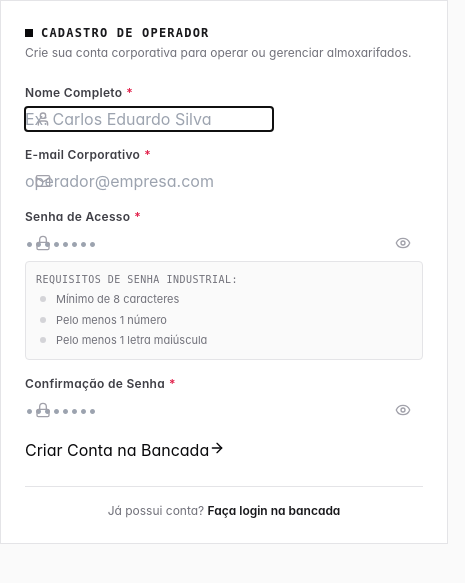
it: RegisterForm (FT-06) › impede o envio se a senha não atender às regras de complexidade
The width and height of the screenshot is (465, 583).
In the field labelled "Nome Completo*": (149,119) [25,107,273,131], type "Carlos Silva"
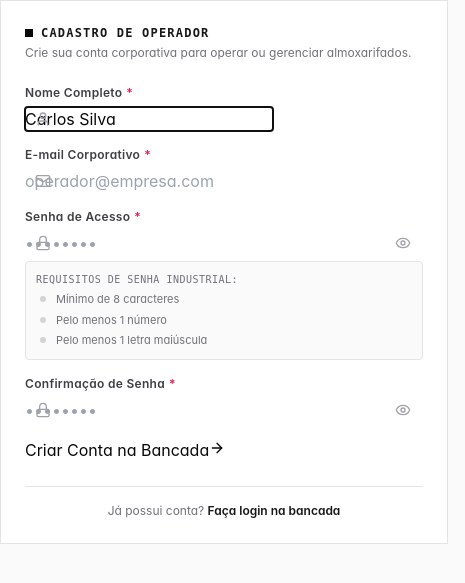
In the field labelled "E-mail Corporativo*": (149,181) [25,169,273,193], type "carlos@empresa.com"
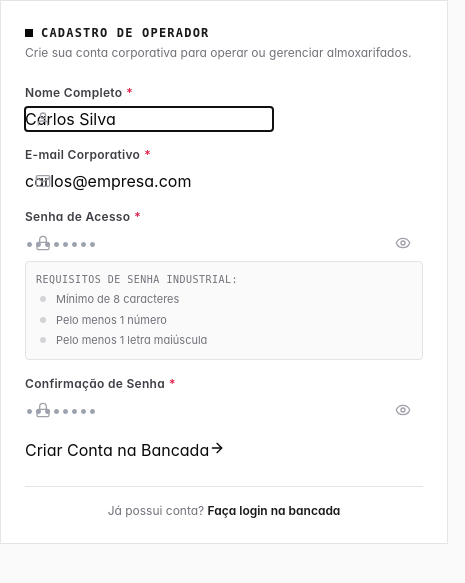
In the password field labelled "Senha de Acesso*": (149,243) [25,231,273,255], type "apenasletrasminusculas"
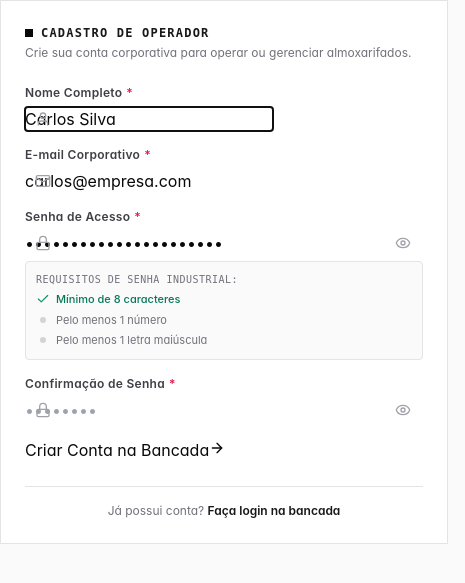
In the password field labelled "Confirmação de Senha*": (149,410) [25,398,273,422], type "apenasletrasminusculas"
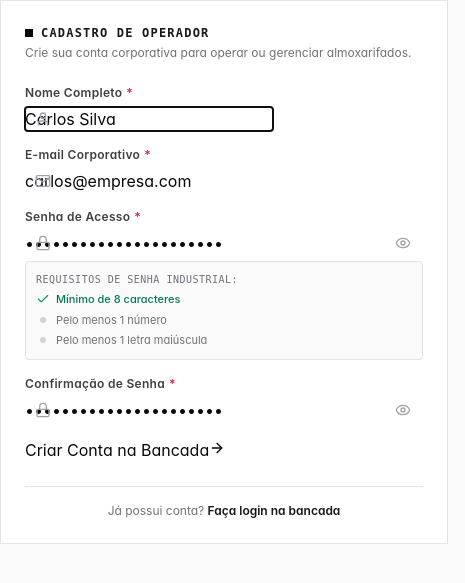
Click the button "Criar Conta na Bancada": (125,450) [25,438,225,462]
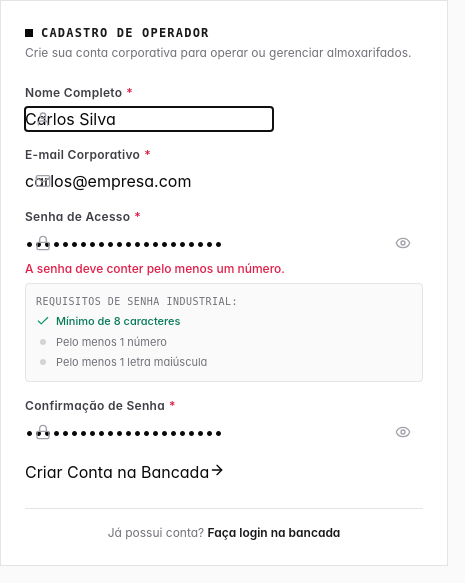
Check: the text "A senha deve conter pelo menos um número." is shown, box [25,261,285,276]
